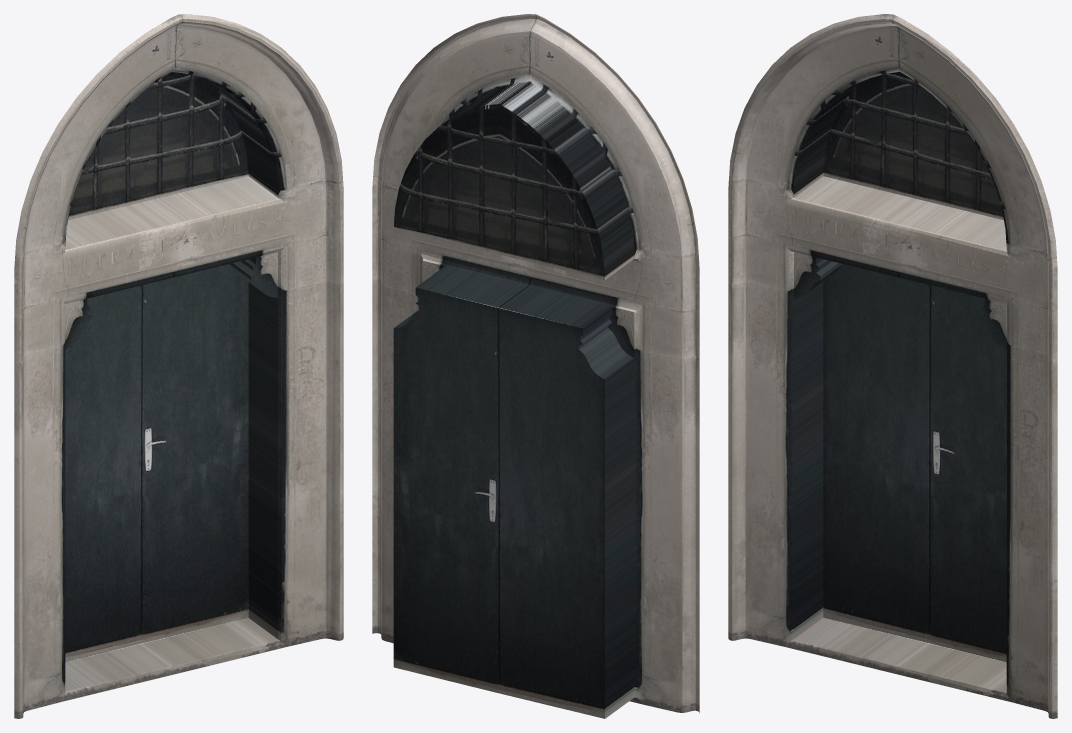
Rendered from sponza_vrata_kr.FBX.
3 renders of one model, left to right at view 1: azimuth 30°, elevation 25°; view 2: azimuth 150°, elevation 25°; view 3: azimuth 330°, elevation 25°, orthographic.
Visible parts, largest first — view 1: door_02-vrata_kr; view 2: door_02-vrata_kr; view 3: door_02-vrata_kr.
Part boxes in pixels (x1=…): door_02-vrata_kr: x1=14, y1=14, x2=343, y2=718; door_02-vrata_kr: x1=372, y1=14, x2=699, y2=718; door_02-vrata_kr: x1=728, y1=14, x2=1057, y2=718.
Size of the model in its own units: 1.86 by 3.58 by 0.3825.
Materials: 1 (1 with a texture image).
